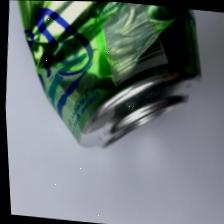metal: (0, 0, 224, 178)
